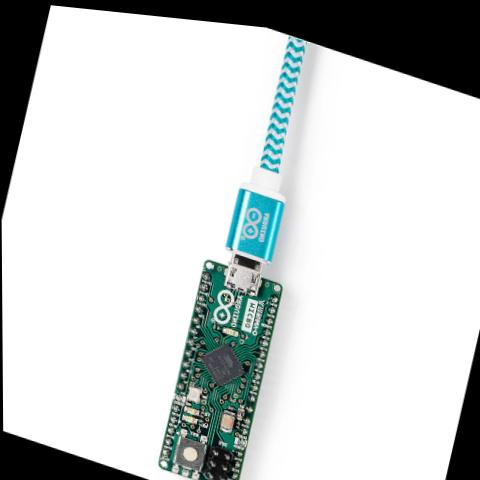Arduino-Micro: (150, 242, 288, 480)
